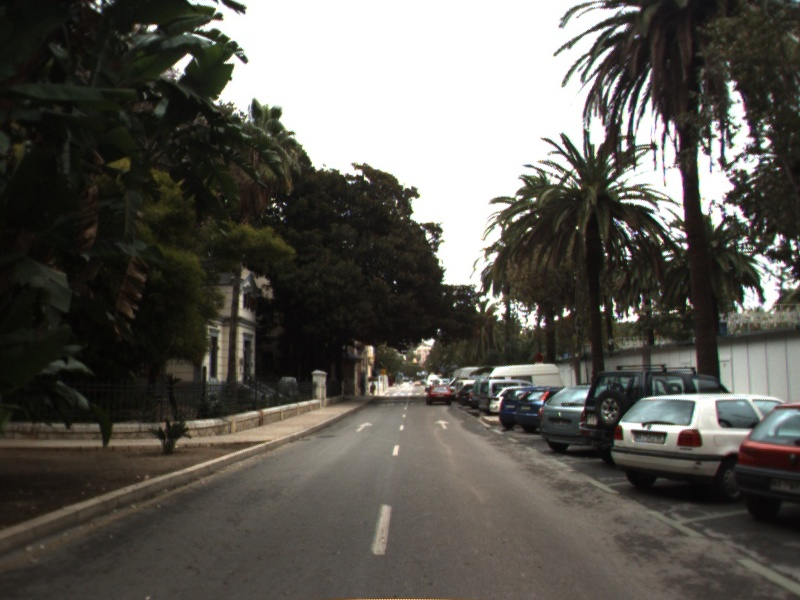STRAIGHT: (432, 417, 453, 431), (354, 420, 376, 433)
